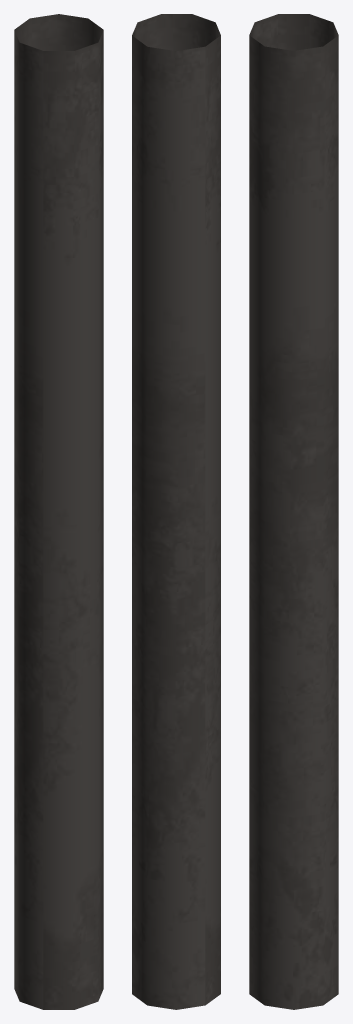
3 renders of one model, left to right at view 1: azimuth 90°, elevation 25°; view 2: azimuth 150°, elevation 25°; view 3: azimuth 270°, elevation 25°, orthographic.
Parts seen in each view (by area): view 1: Object062; view 2: Object062; view 3: Object062.
Boxes of the visible parts, x1=… form: Object062: x1=14, y1=14, x2=103, y2=1009; Object062: x1=132, y1=14, x2=220, y2=1009; Object062: x1=249, y1=14, x2=338, y2=1009.
Size of the model in its own units: 6.51 by 78.79 by 6.66.
